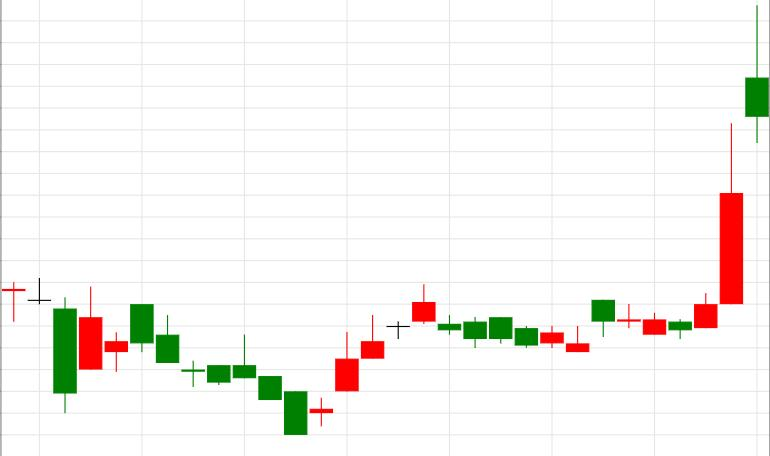shooting_star_fall: (617, 5, 769, 339)
